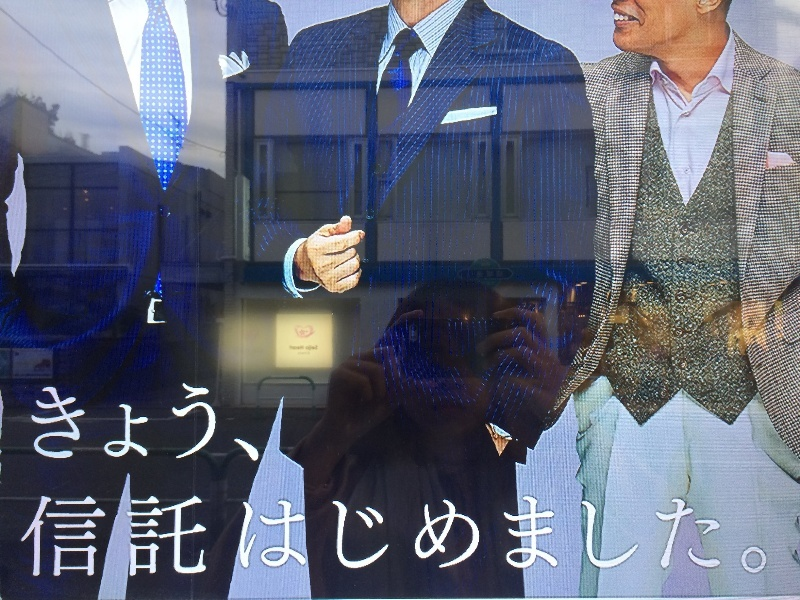text: (33, 491, 48, 579), (49, 491, 64, 579), (65, 491, 80, 579), (81, 491, 96, 579), (97, 491, 112, 579), (113, 491, 128, 579), (129, 491, 144, 579), (145, 491, 160, 579), (161, 491, 176, 579), (177, 491, 192, 579), (193, 491, 208, 579), (209, 491, 224, 579), (225, 491, 240, 579), (241, 491, 256, 579), (257, 491, 272, 579), (273, 491, 288, 579), (289, 491, 304, 579), (305, 491, 320, 579), (321, 491, 336, 579), (337, 491, 352, 579), (353, 491, 368, 579), (369, 491, 384, 579), (385, 491, 400, 579), (401, 491, 416, 579), (417, 491, 432, 579), (433, 491, 448, 579), (449, 491, 464, 579), (465, 491, 480, 579), (481, 491, 496, 579), (497, 491, 512, 579), (513, 491, 528, 579), (529, 491, 544, 579), (545, 491, 560, 579), (561, 491, 576, 579), (577, 491, 592, 579), (593, 491, 608, 579), (609, 491, 624, 579), (625, 491, 640, 579), (641, 491, 656, 579), (657, 491, 672, 579), (673, 491, 688, 579), (689, 491, 704, 579), (705, 491, 720, 579), (721, 491, 736, 579), (737, 491, 752, 579), (753, 491, 768, 579), (49, 381, 64, 462), (65, 381, 80, 462), (81, 381, 96, 462), (97, 381, 112, 462), (113, 381, 128, 462), (129, 381, 144, 462), (145, 381, 160, 462), (161, 381, 176, 462), (177, 381, 192, 462), (193, 381, 208, 462), (209, 381, 224, 462), (225, 381, 240, 462), (241, 381, 256, 462), (34, 381, 48, 462), (23, 491, 32, 579), (257, 381, 260, 462), (290, 346, 304, 350), (305, 346, 318, 350), (305, 352, 311, 355), (299, 352, 304, 355)
